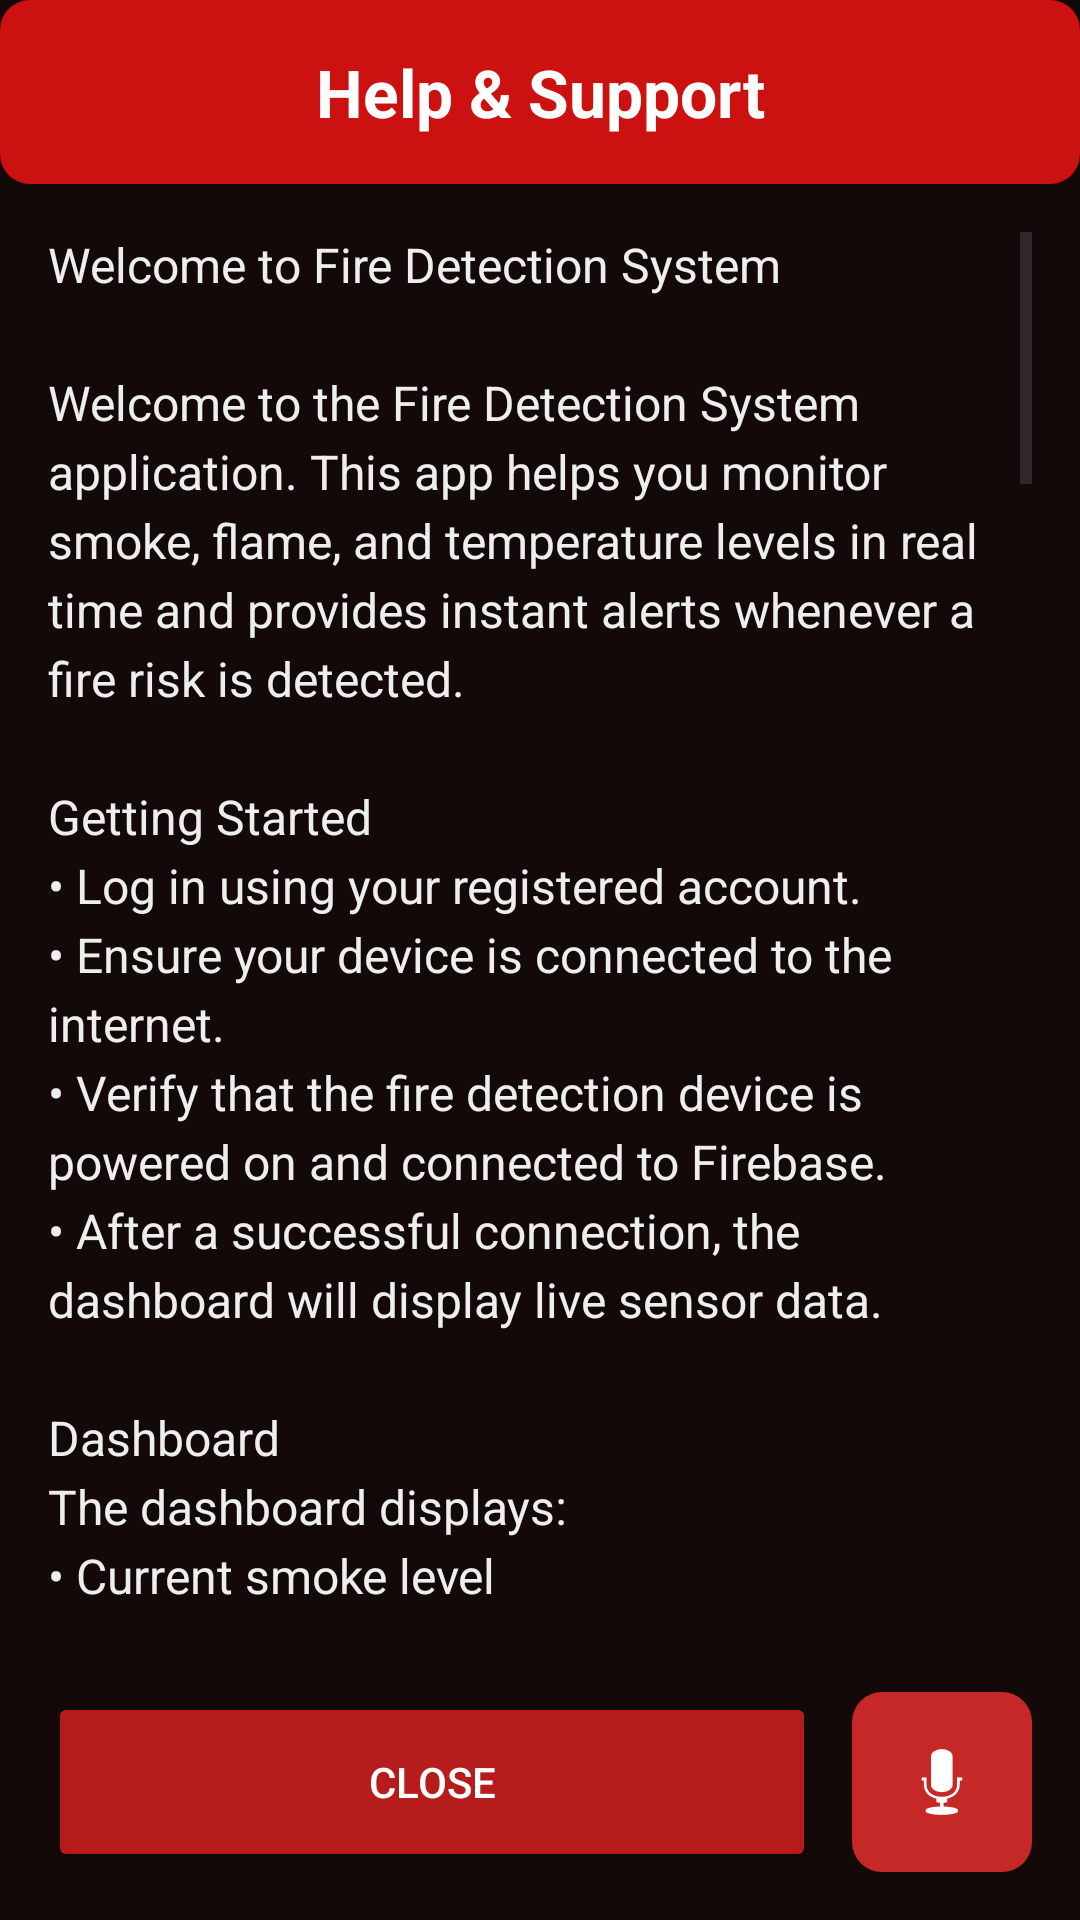

Icon bounding boxes for this 1080px x 1920px phone screenshot, format (x1, y1, x2, y2):
Voice Command: (852, 1692, 1032, 1872)
